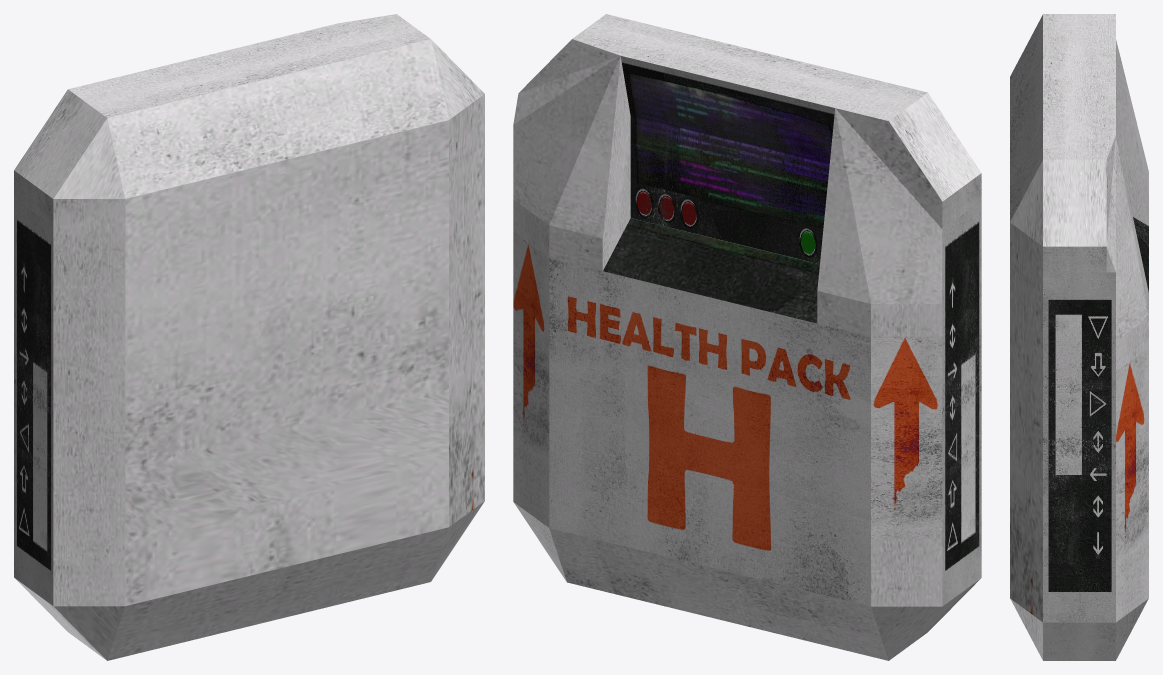
File: item_healthpack.glb
The picture shows the model from 3 angles, left to right: view 1: azimuth 30°, elevation 25°; view 2: azimuth 150°, elevation 25°; view 3: azimuth 270°, elevation 25°; orthographic projection. The views are drawn at different scales.
Parts seen in each view (by area): view 1: Cube; view 2: Cube; view 3: Cube.
Part boxes in pixels (bbox=[...]): Cube: bbox=[14, 14, 484, 660]; Cube: bbox=[513, 14, 981, 660]; Cube: bbox=[1010, 14, 1148, 660].
Bounding box in the file's own units: 1.14 × 1.37 × 0.344.
1 material, 1 textured.
